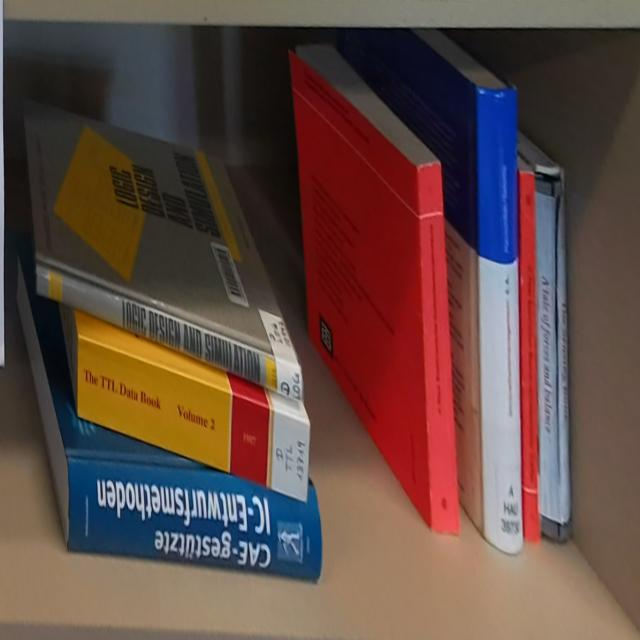Book Spine: (77, 334, 311, 502), (38, 264, 301, 402), (66, 453, 321, 583), (477, 81, 523, 556), (416, 163, 461, 536), (535, 167, 571, 549), (517, 170, 542, 549)
